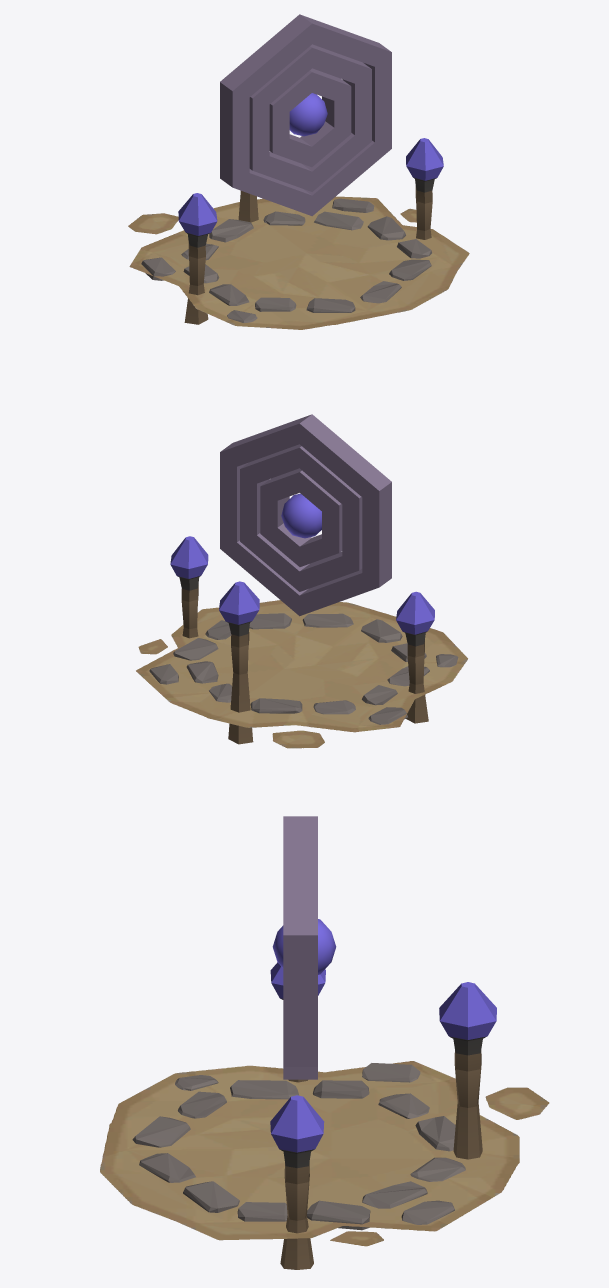
The model's file is notBrokenDevice.fbx.
The picture shows the model from 3 angles, top to bottom: view 1: azimuth 30°, elevation 25°; view 2: azimuth 150°, elevation 25°; view 3: azimuth 270°, elevation 25°; orthographic projection. The views are drawn at different scales.
Visible parts, largest first — view 1: groundDecal, notBrokenDevice, sealOuterRing, sealMidRing, sealInnerRing, sealMovingParts; view 2: groundDecal, notBrokenDevice, sealOuterRing, sealMidRing, sealInnerRing, sealMovingParts; view 3: groundDecal, notBrokenDevice, sealOuterRing, sealMovingParts.
Part boxes in pixels (box(x1,y1,x2,y2)): groundDecal: box(128, 196, 469, 329); notBrokenDevice: box(141, 138, 443, 324); sealOuterRing: box(220, 14, 391, 216); sealMidRing: box(249, 44, 371, 191); sealInnerRing: box(269, 68, 351, 167); sealMovingParts: box(289, 93, 327, 136); groundDecal: box(136, 600, 467, 748); notBrokenDevice: box(149, 536, 458, 744); sealOuterRing: box(220, 414, 391, 616); sealMidRing: box(240, 444, 362, 591); sealInnerRing: box(260, 468, 342, 566); sealMovingParts: box(281, 493, 321, 538); groundDecal: box(100, 1061, 549, 1246); notBrokenDevice: box(132, 962, 496, 1269); sealOuterRing: box(283, 816, 317, 1079); sealMovingParts: box(272, 919, 336, 974).
Bounding box in the file's own units: 4 × 2.87 × 4.
